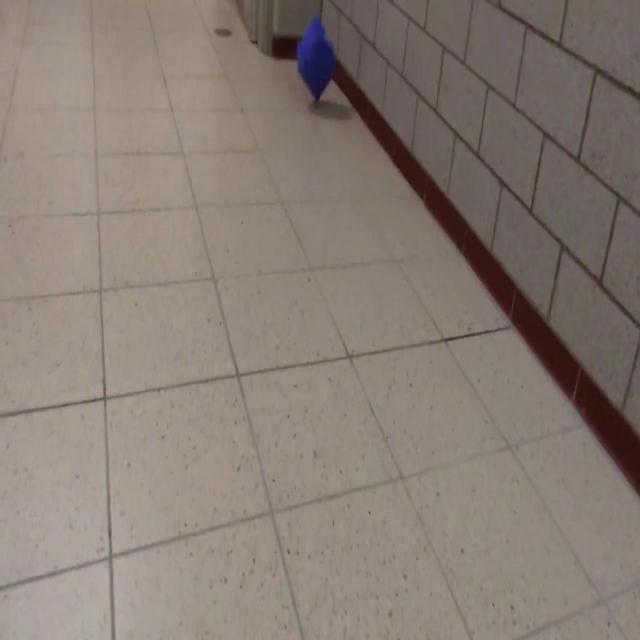frc_cube: (296, 17, 336, 102)
